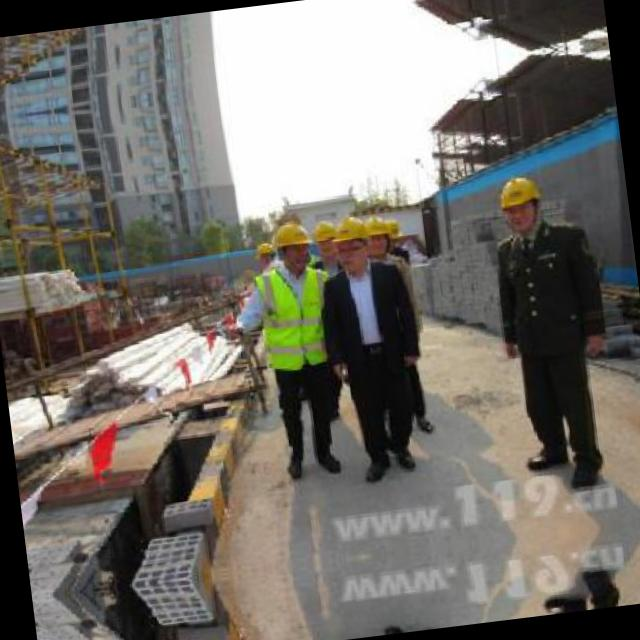helmet: (492, 172, 546, 236), (274, 215, 316, 273), (335, 218, 373, 268), (310, 218, 340, 266), (364, 212, 391, 256)
